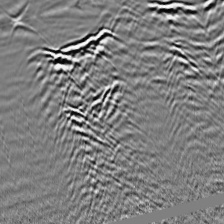cavities: (48, 27, 126, 128), (144, 1, 223, 24)
